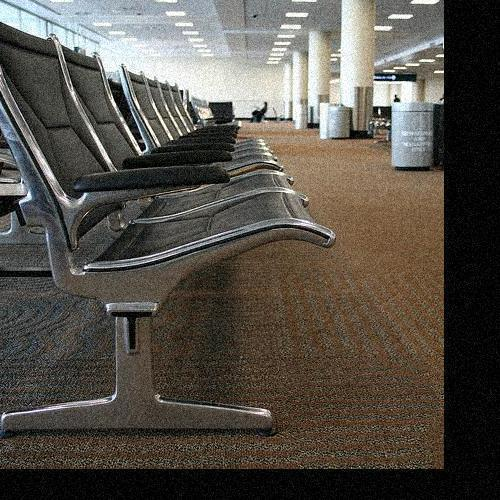Bote de Basura: (388, 97, 440, 176), (328, 104, 351, 139)
